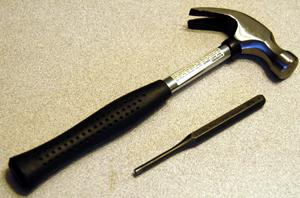hammer: (7, 5, 299, 191)
